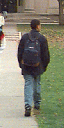person: (19, 19, 50, 115)
